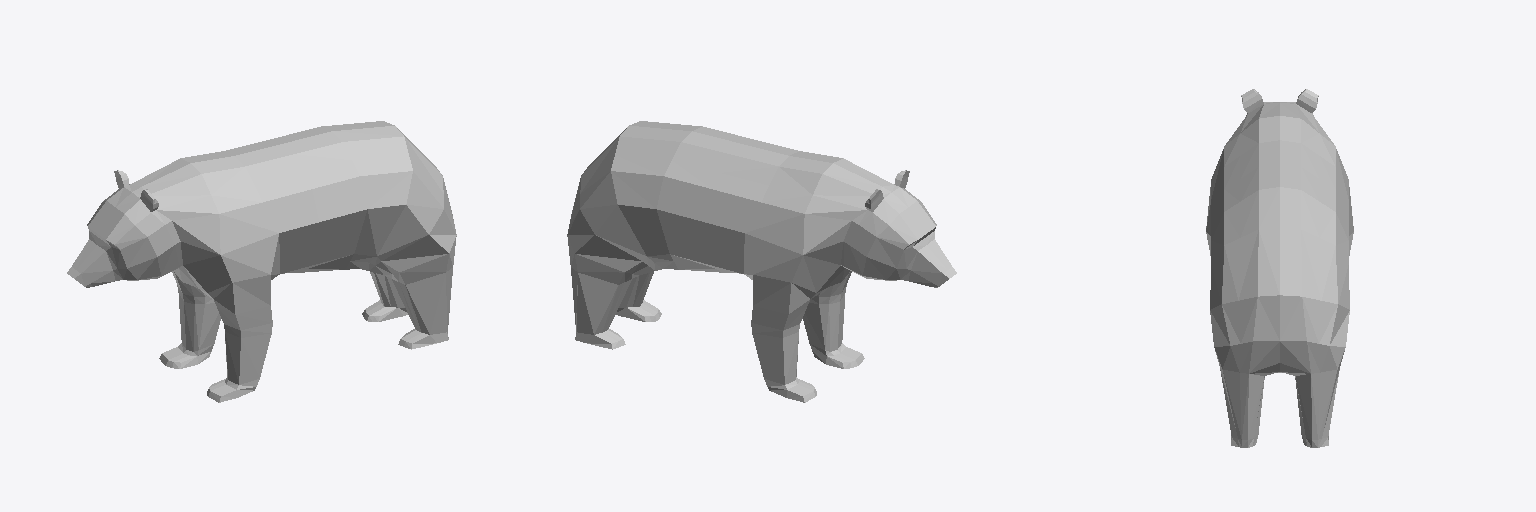
File: low poly bear.obj
3 renders of one model, left to right at view 1: azimuth 30°, elevation 25°; view 2: azimuth 150°, elevation 25°; view 3: azimuth 270°, elevation 25°, orthographic.
Parts seen in each view (by area): view 1: pCylinder2; view 2: pCylinder2; view 3: pCylinder2.
Part boxes in pixels (left/top/right/bottom): pCylinder2: left=67, top=121, right=456, bottom=402; pCylinder2: left=567, top=121, right=956, bottom=402; pCylinder2: left=1206, top=89, right=1353, bottom=447.
Size of the model in its own units: 5.88 by 3.29 by 2.03.